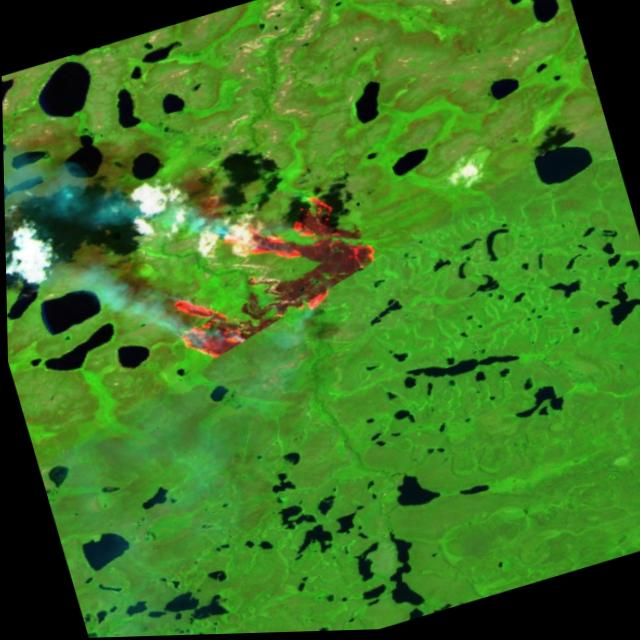fire: (131, 173, 395, 372)
